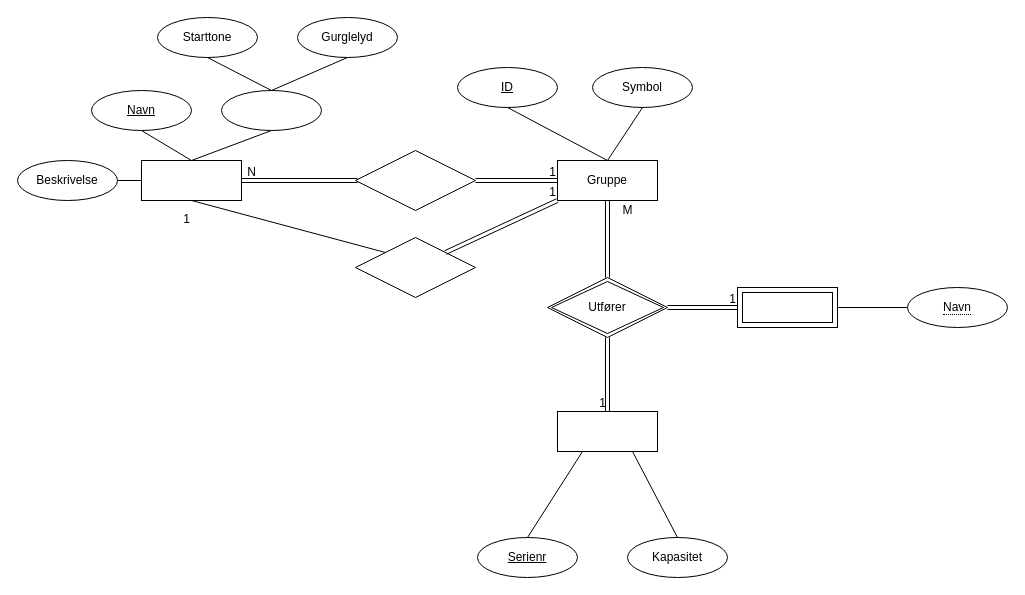
Some shapes in this 1025 by 595 pixel diagram are drawn without their labels. The box of each missing label's shape, as (x1, y1, x2, y2) in pixels:
Er leder: (354, 236, 476, 298)
Funksjon: (736, 286, 838, 328)
Lyd: (220, 90, 322, 130)
Med i: (354, 150, 476, 210)
Romskip: (556, 410, 658, 452)
Romvesen: (140, 160, 242, 200)
